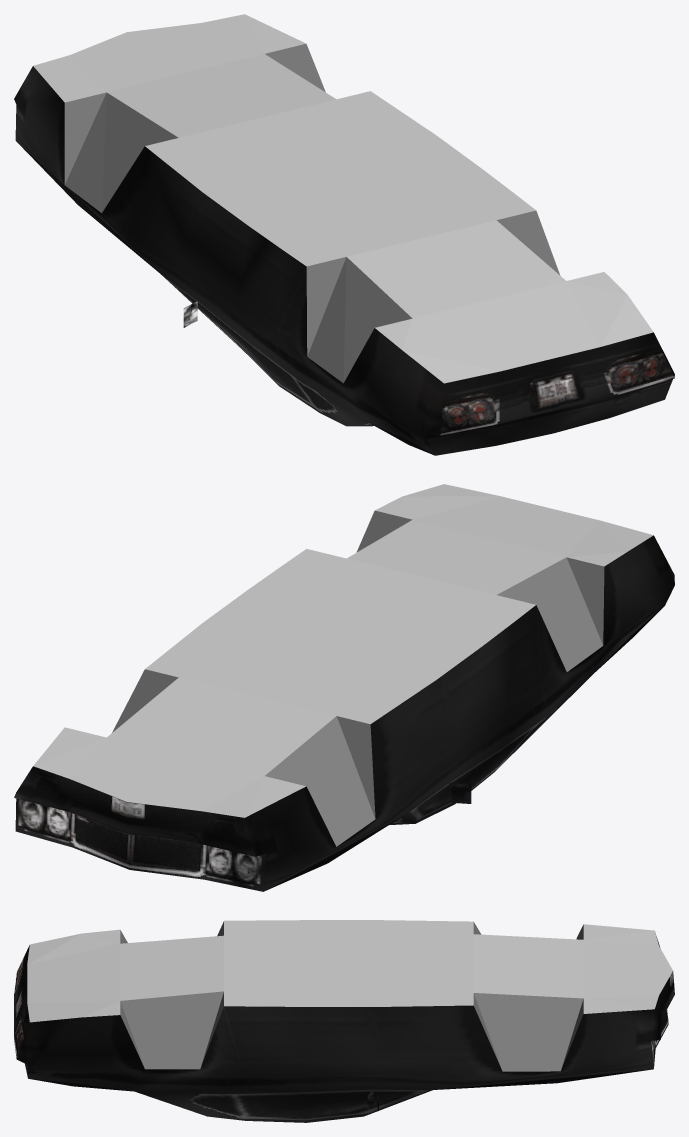
Rendered from CHICAGO_model12_clean.obj.
3 views of the same model, one above another, from view 1: azimuth 30°, elevation 25°; view 2: azimuth 150°, elevation 25°; view 3: azimuth 270°, elevation 25° (orthographic). The views are drawn at different scales.
Visible parts, largest first — view 1: CHICAGO_model12_clean_set1_id0_ft, CHICAGO_model12_clean_flat, CHICAGO_model12_clean_set55_id0, CHICAGO_model12_clean_set55_id1, CHICAGO_model12_clean_set55_id4, CHICAGO_model12_clean_set55_id12, CHICAGO_model12_clean_set55_id11, CHICAGO_model12_clean_set56_id2; view 2: CHICAGO_model12_clean_set1_id0_ft, CHICAGO_model12_clean_flat, CHICAGO_model12_clean_set55_id0, CHICAGO_model12_clean_set55_id1, CHICAGO_model12_clean_set55_id7, CHICAGO_model12_clean_set55_id4, CHICAGO_model12_clean_set55_id8, CHICAGO_model12_clean_set56_id2; view 3: CHICAGO_model12_clean_set1_id0_ft, CHICAGO_model12_clean_set55_id0, CHICAGO_model12_clean_flat, CHICAGO_model12_clean_set55_id1, CHICAGO_model12_clean_set55_id4, CHICAGO_model12_clean_set56_id2, CHICAGO_model12_clean_set55_id8, CHICAGO_model12_clean_set55_id11, CHICAGO_model12_clean_set55_id12.
Part boxes in pixels (<box>): CHICAGO_model12_clean_set1_id0_ft: <box>33,14,653,383</box>; CHICAGO_model12_clean_flat: <box>64,43,560,383</box>; CHICAGO_model12_clean_set55_id0: <box>14,66,202,300</box>; CHICAGO_model12_clean_set55_id1: <box>177,192,306,380</box>; CHICAGO_model12_clean_set55_id4: <box>278,267,674,455</box>; CHICAGO_model12_clean_set55_id12: <box>425,359,559,455</box>; CHICAGO_model12_clean_set55_id11: <box>550,332,674,433</box>; CHICAGO_model12_clean_set56_id2: <box>161,274,366,426</box>; CHICAGO_model12_clean_set1_id0_ft: <box>33,484,653,817</box>; CHICAGO_model12_clean_flat: <box>112,510,604,846</box>; CHICAGO_model12_clean_set55_id0: <box>14,680,450,891</box>; CHICAGO_model12_clean_set55_id1: <box>436,605,547,782</box>; CHICAGO_model12_clean_set55_id7: <box>125,783,471,891</box>; CHICAGO_model12_clean_set55_id4: <box>536,535,674,715</box>; CHICAGO_model12_clean_set55_id8: <box>14,766,131,869</box>; CHICAGO_model12_clean_set56_id2: <box>408,676,590,823</box>; CHICAGO_model12_clean_set1_id0_ft: <box>27,920,672,1022</box>; CHICAGO_model12_clean_set55_id0: <box>374,1005,660,1089</box>; CHICAGO_model12_clean_flat: <box>120,921,583,1071</box>; CHICAGO_model12_clean_set55_id1: <box>221,1006,388,1110</box>; CHICAGO_model12_clean_set55_id4: <box>16,1007,241,1093</box>; CHICAGO_model12_clean_set56_id2: <box>135,1089,432,1122</box>; CHICAGO_model12_clean_set55_id8: <box>651,971,674,1068</box>; CHICAGO_model12_clean_set55_id11: <box>14,984,29,1077</box>; CHICAGO_model12_clean_set55_id12: <box>14,945,29,1016</box>.
Bounding box in the file's own units: 288 × 164 × 752.
15 materials, 13 textured.
